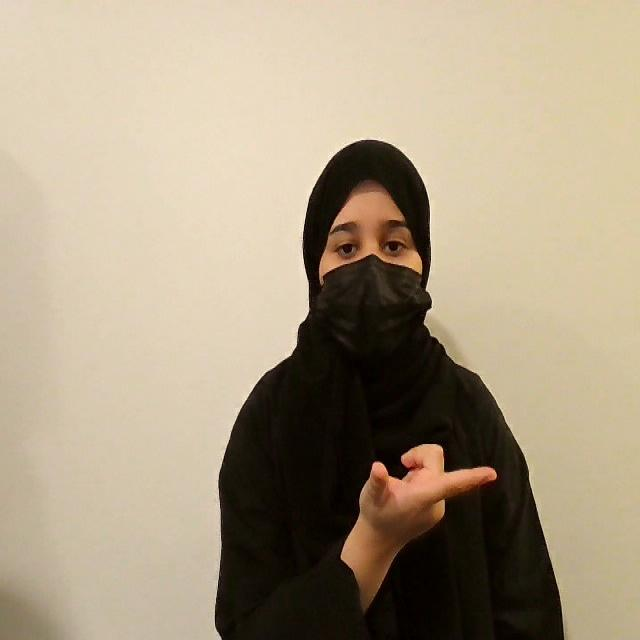dispensing: (353, 441, 500, 552)
